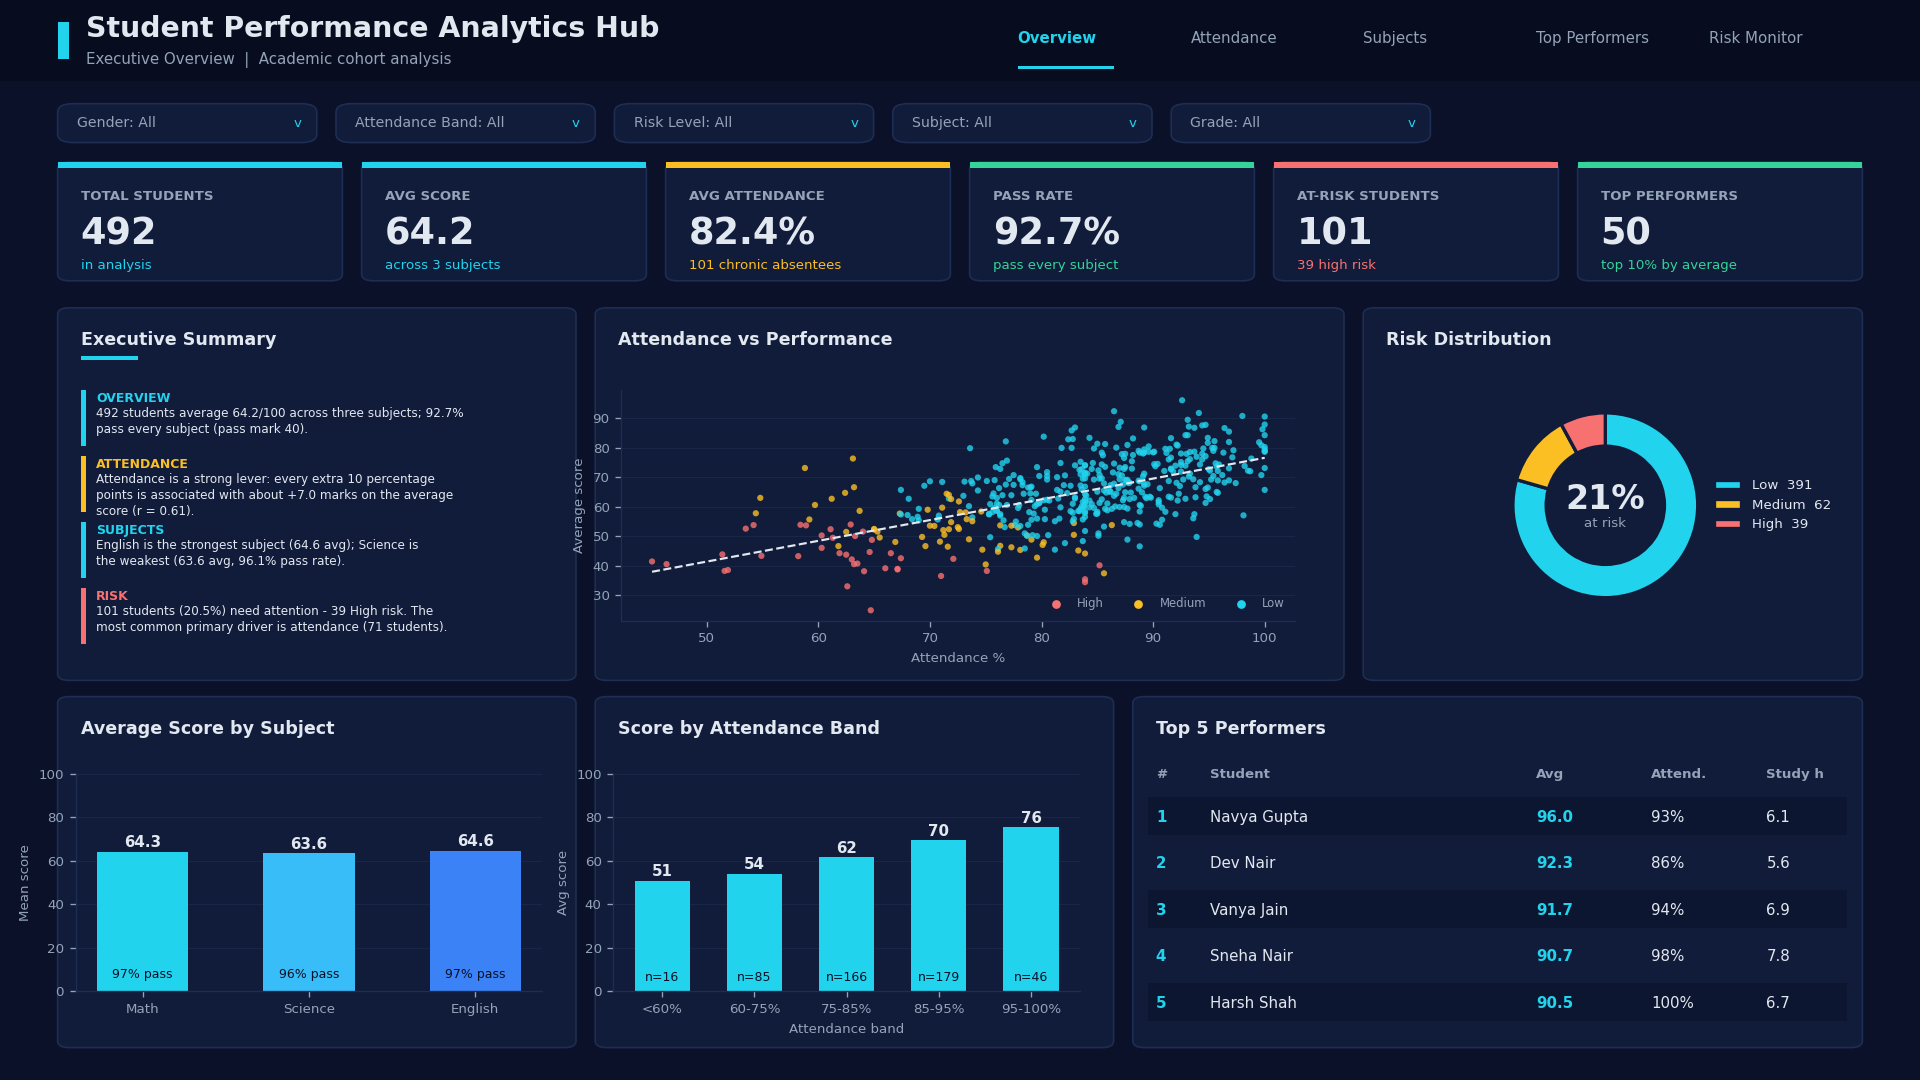

What the dashboard file says about the page in this screenshot:
{"tool":"powerbi","page":{"name":" Overview","canvas":[1920,1080],"ordinal":0},"visuals":[{"type":"cardVisual","fields":{"Data":["students.Total Students"]},"box":[10.8,48.8,279.3,230.5],"z":0},{"type":"cardVisual","fields":{"Data":["students.Avg Score"]},"box":[290.2,48.8,279.3,230.5],"z":1000},{"type":"cardVisual","fields":{"Data":["students.Avg Attendance %"]},"box":[569.5,48.8,279.3,230.5],"z":2000},{"type":"cardVisual","fields":{"Data":["students.At-Risk Students"]},"box":[848.8,48.8,279.3,230.5],"z":3000},{"type":"donutChart","fields":{"Category":["students.Risk_Level"],"Y":["students.Total Students"]},"box":[11.1,290.5,417.8,309.9],"z":4000},{"type":"clusteredColumnChart","fields":{"Category":["students.Attendance_Band"],"Y":["students.Avg Score"]},"box":[428.8,279.4,462,320.9],"z":5000},{"type":"scatterChart","fields":{"Series":["students.Risk_Level"],"X":["students.Attendance_Percentage"],"Y":["students.Avg_Score"]},"box":[890.8,290.5,484.1,309.9],"z":6000},{"type":"slicer","fields":{"Values":["students.Gender"]},"box":[0,600.3,368,213],"z":7000},{"type":"slicer","fields":{"Values":["students.Risk_Level"]},"box":[368,600.3,365.2,213],"z":8000},{"type":"slicer","fields":{"Values":["students.Attendance_Band"]},"box":[733.1,600.3,395.6,213],"z":9000},{"type":"pageNavigator","box":[0,0,1000,50],"z":9001}]}

Visuals, with their boxes in screenshot pixels (x1, y1, x2, y2), scaled from the page's 1920x1080 canvas onto the 1920x1080 screenshot:
cardVisual - students.Total Students: {"x1": 11, "y1": 49, "x2": 290, "y2": 279}
cardVisual - students.Avg Score: {"x1": 290, "y1": 49, "x2": 570, "y2": 279}
cardVisual - students.Avg Attendance %: {"x1": 570, "y1": 49, "x2": 849, "y2": 279}
cardVisual - students.At-Risk Students: {"x1": 849, "y1": 49, "x2": 1128, "y2": 279}
donutChart - students.Risk_Level x students.Total Students: {"x1": 11, "y1": 290, "x2": 429, "y2": 600}
clusteredColumnChart - students.Attendance_Band x students.Avg Score: {"x1": 429, "y1": 279, "x2": 891, "y2": 600}
scatterChart - students.Risk_Level x students.Attendance_Percentage: {"x1": 891, "y1": 290, "x2": 1375, "y2": 600}
slicer - students.Gender: {"x1": 0, "y1": 600, "x2": 368, "y2": 813}
slicer - students.Risk_Level: {"x1": 368, "y1": 600, "x2": 733, "y2": 813}
slicer - students.Attendance_Band: {"x1": 733, "y1": 600, "x2": 1129, "y2": 813}
pageNavigator: {"x1": 0, "y1": 0, "x2": 1000, "y2": 50}
